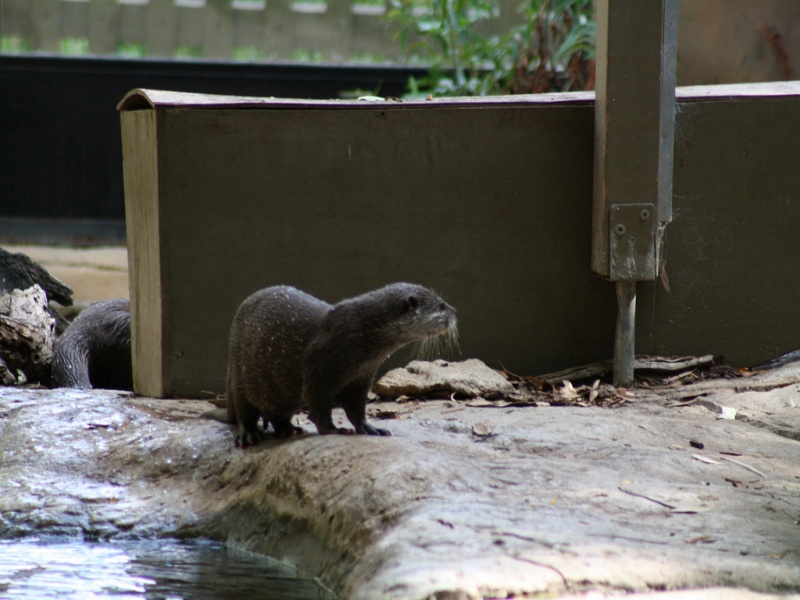minkish: (206, 275, 462, 455)
